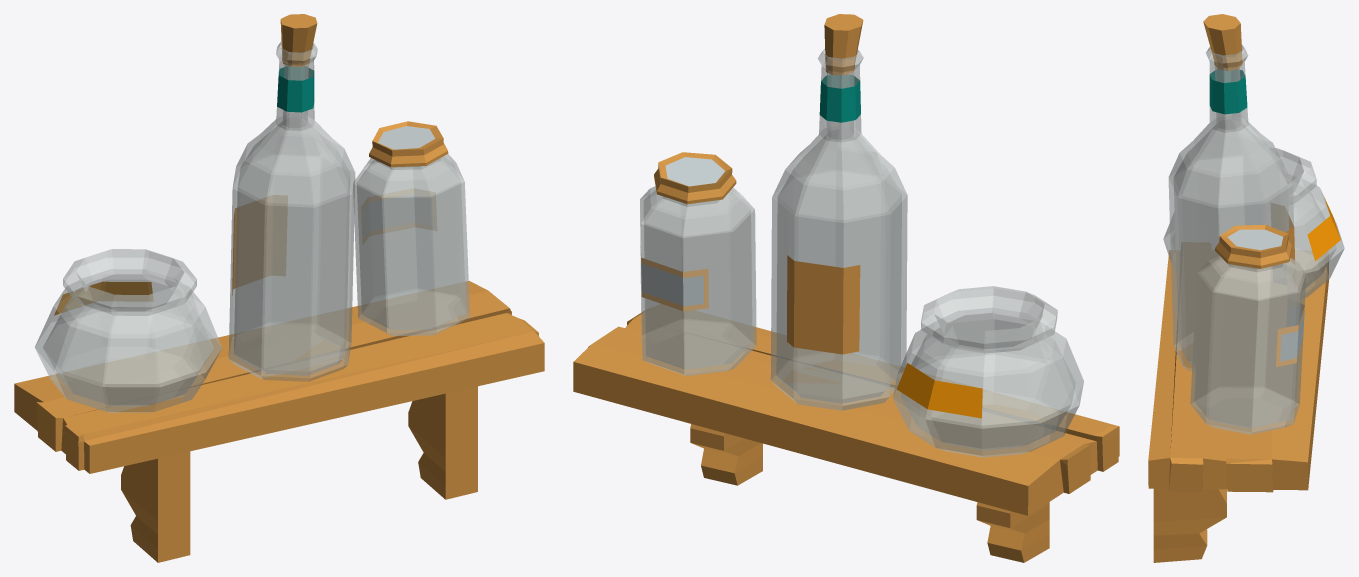
Rendered from JarsSep.fbx.
The picture shows the model from 3 angles, left to right: view 1: azimuth 30°, elevation 25°; view 2: azimuth 150°, elevation 25°; view 3: azimuth 270°, elevation 25°; orthographic projection. The views are drawn at different scales.
Parts seen in each view (by area): view 1: group732647983.001, group732647983, group732647983.003, group732647983.002; view 2: group732647983.001, group732647983, group732647983.003, group732647983.002; view 3: group732647983.001, group732647983.002, group732647983, group732647983.003.
Part boxes in pixels (x1=…): group732647983.001: x1=14, y1=281, x2=544, y2=562; group732647983: x1=228, y1=14, x2=355, y2=381; group732647983.003: x1=35, y1=249, x2=221, y2=412; group732647983.002: x1=353, y1=121, x2=469, y2=335; group732647983.001: x1=573, y1=311, x2=1119, y2=562; group732647983: x1=770, y1=14, x2=907, y2=410; group732647983.003: x1=893, y1=286, x2=1083, y2=457; group732647983.002: x1=640, y1=152, x2=756, y2=375; group732647983.001: x1=1148, y1=250, x2=1329, y2=562; group732647983.002: x1=1190, y1=224, x2=1306, y2=434; group732647983: x1=1168, y1=14, x2=1294, y2=370; group732647983.003: x1=1163, y1=148, x2=1344, y2=298.
Bounding box in the file's own units: 73.78 × 73.8 × 27.82.
